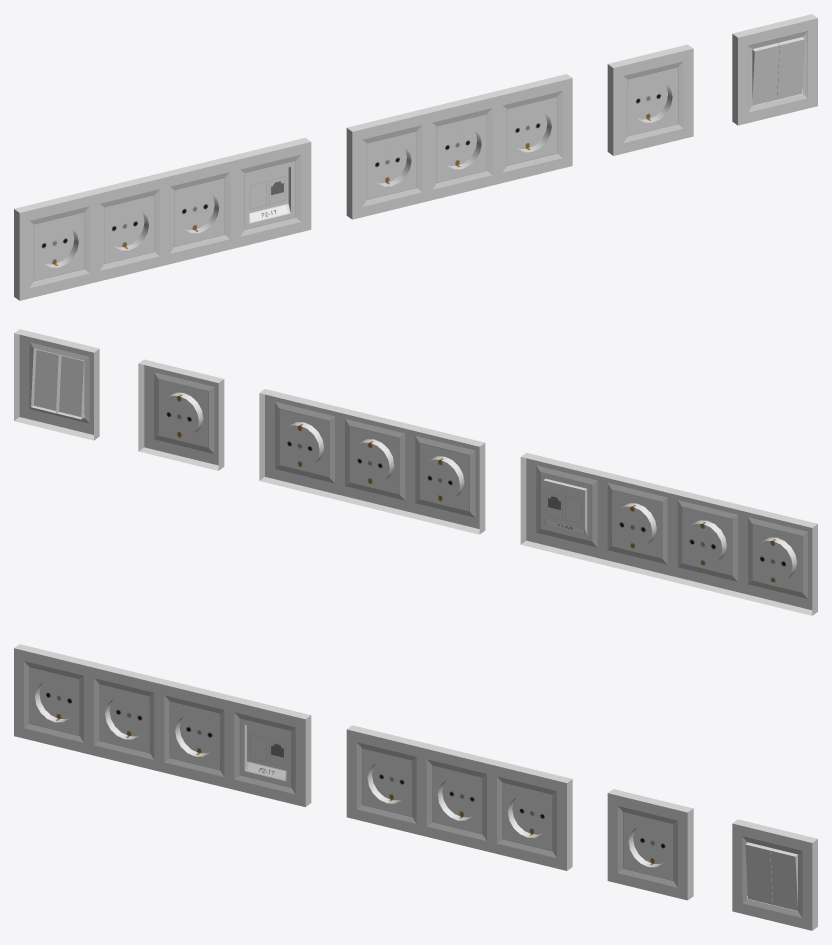
File: outlets.glb
The picture shows the model from 3 angles, top to bottom: view 1: azimuth 30°, elevation 25°; view 2: azimuth 150°, elevation 25°; view 3: azimuth 330°, elevation 25°; orthographic projection.
Parts seen in each view (by area): view 1: ElecOutlet_3+1, ElecOutlet_3, ElecOutlet_1, LightSwitch; view 2: ElecOutlet_3+1, ElecOutlet_3, ElecOutlet_1, LightSwitch; view 3: ElecOutlet_3+1, ElecOutlet_3, ElecOutlet_1, LightSwitch.
Part boxes in pixels (x1,y1,x2,y2): ElecOutlet_3+1: (14, 137, 311, 300); ElecOutlet_3: (346, 74, 572, 219); ElecOutlet_1: (607, 44, 693, 155); LightSwitch: (732, 14, 817, 125); ElecOutlet_3+1: (520, 452, 817, 615); ElecOutlet_3: (259, 389, 485, 534); ElecOutlet_1: (138, 359, 224, 470); LightSwitch: (14, 329, 99, 440); ElecOutlet_3+1: (14, 644, 311, 807); ElecOutlet_3: (346, 725, 572, 870); ElecOutlet_1: (607, 789, 693, 900); LightSwitch: (732, 819, 817, 930).
Bounding box in the file's own units: 0.8078 × 0.085 × 0.0133.
Materials: 1 (1 with a texture image).
